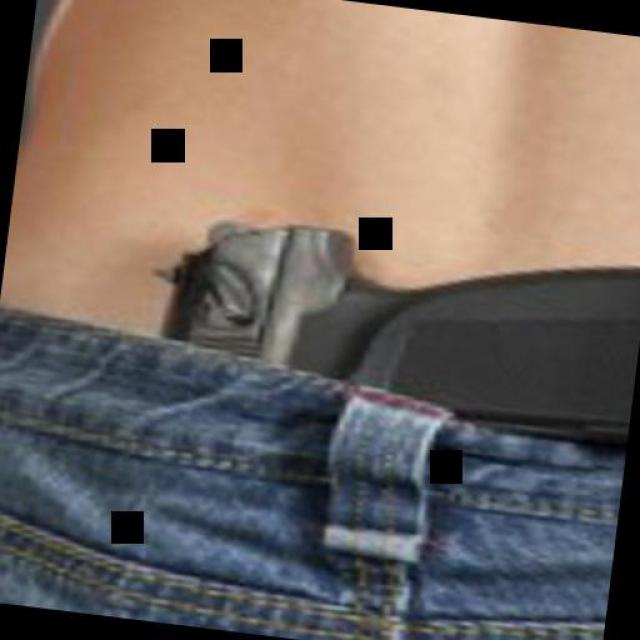gun: (129, 190, 640, 459)
